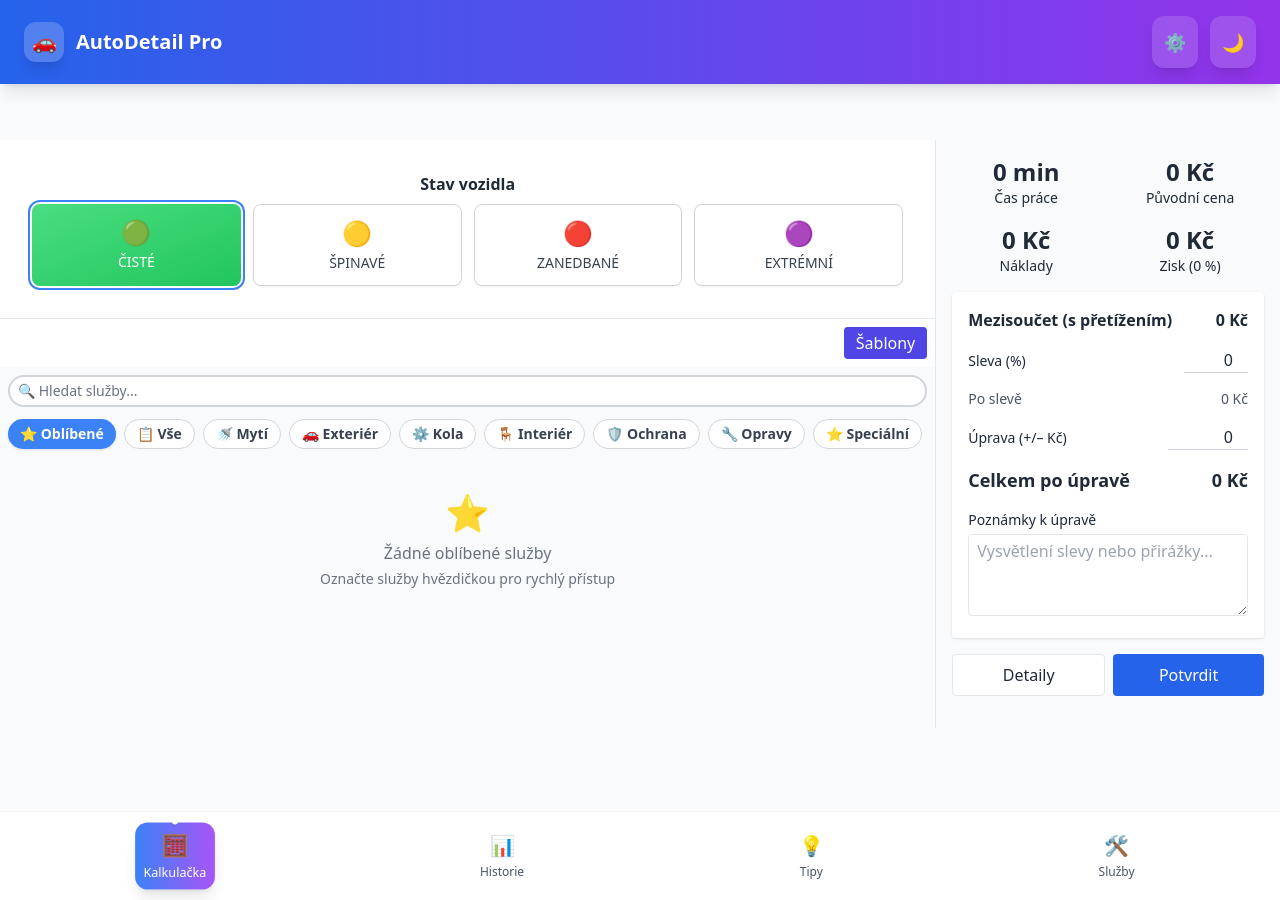
Test: App › can search in knowledge base
The width and height of the screenshot is (1280, 900).
# Switch to tips (knowledge base) view
Click the tab "💡 Tipy": (811, 856) x1=791 y1=824 x2=832 y2=888
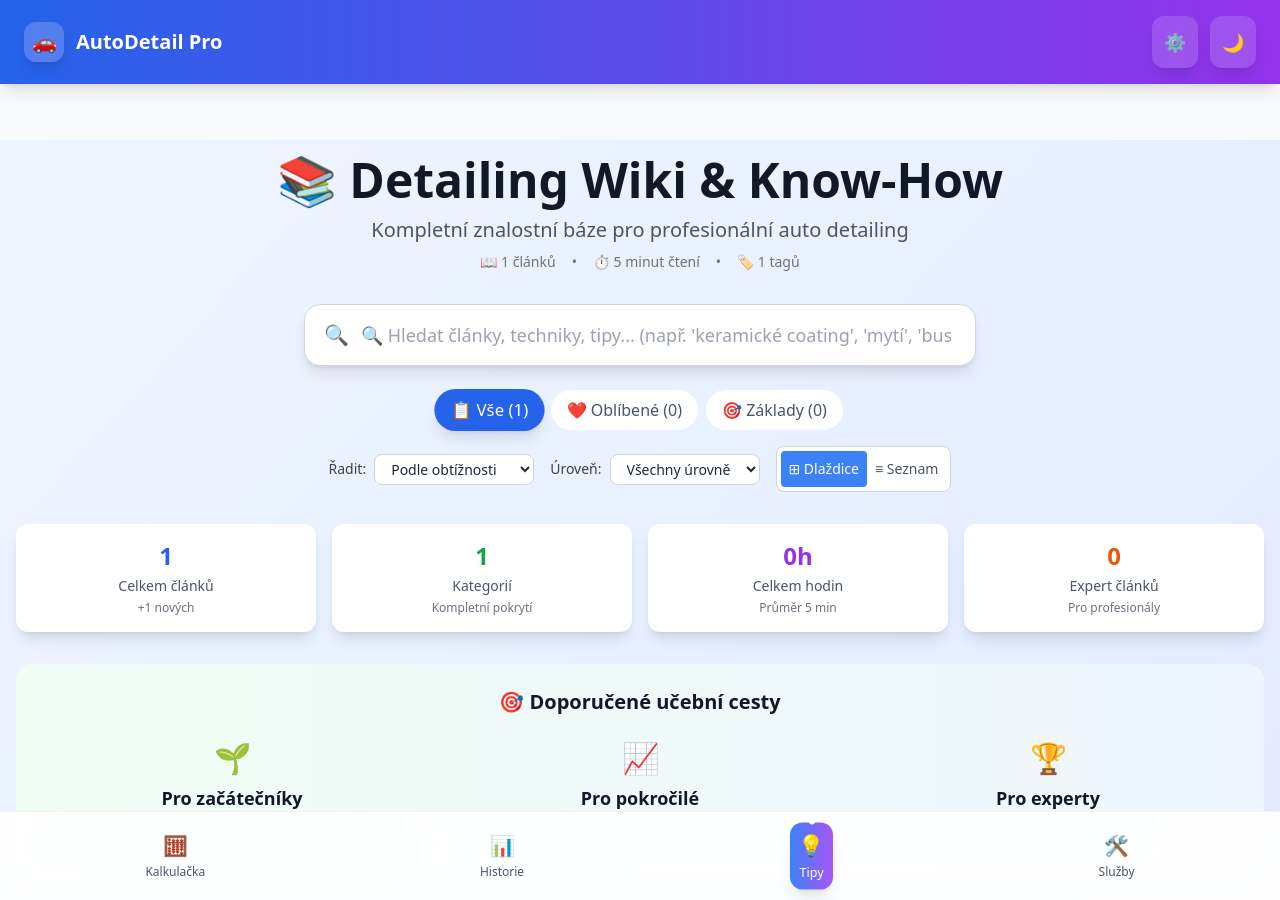
Check: the field with placeholder "🔍 Hledat články, techniky, tipy... (např. 'keramické coatin" is shown, box x1=304 y1=304 x2=976 y2=366
